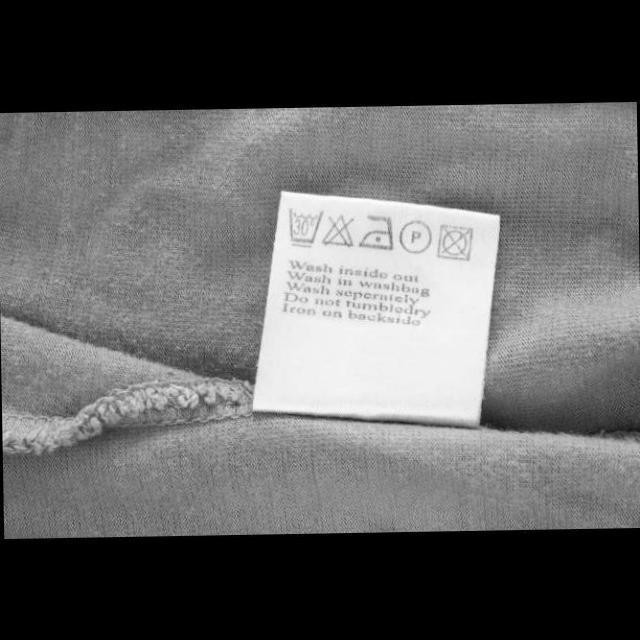30C: (286, 205, 326, 249)
DN_bleach: (318, 212, 356, 250)
DN_tumble_dry: (435, 222, 476, 264)
iron_low: (356, 213, 396, 253)
normal_dry_clean_solvents: (397, 218, 434, 255)
